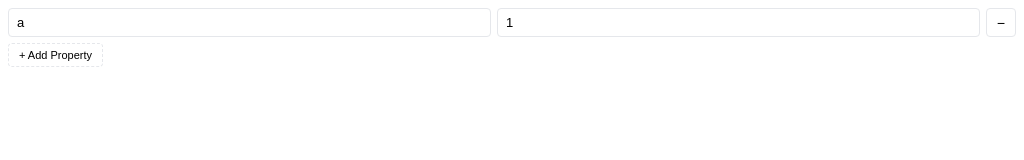
KeyValueEditor (SDK primitive) › add row → +Add Property добавляет новый пустой row
Click the button "+ Add Property".
click(56, 55)  # box [8,43,103,67]
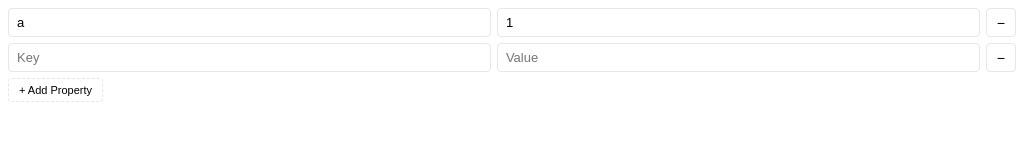
Now the field named "Key 1" is shown, box [8,43,491,72]
